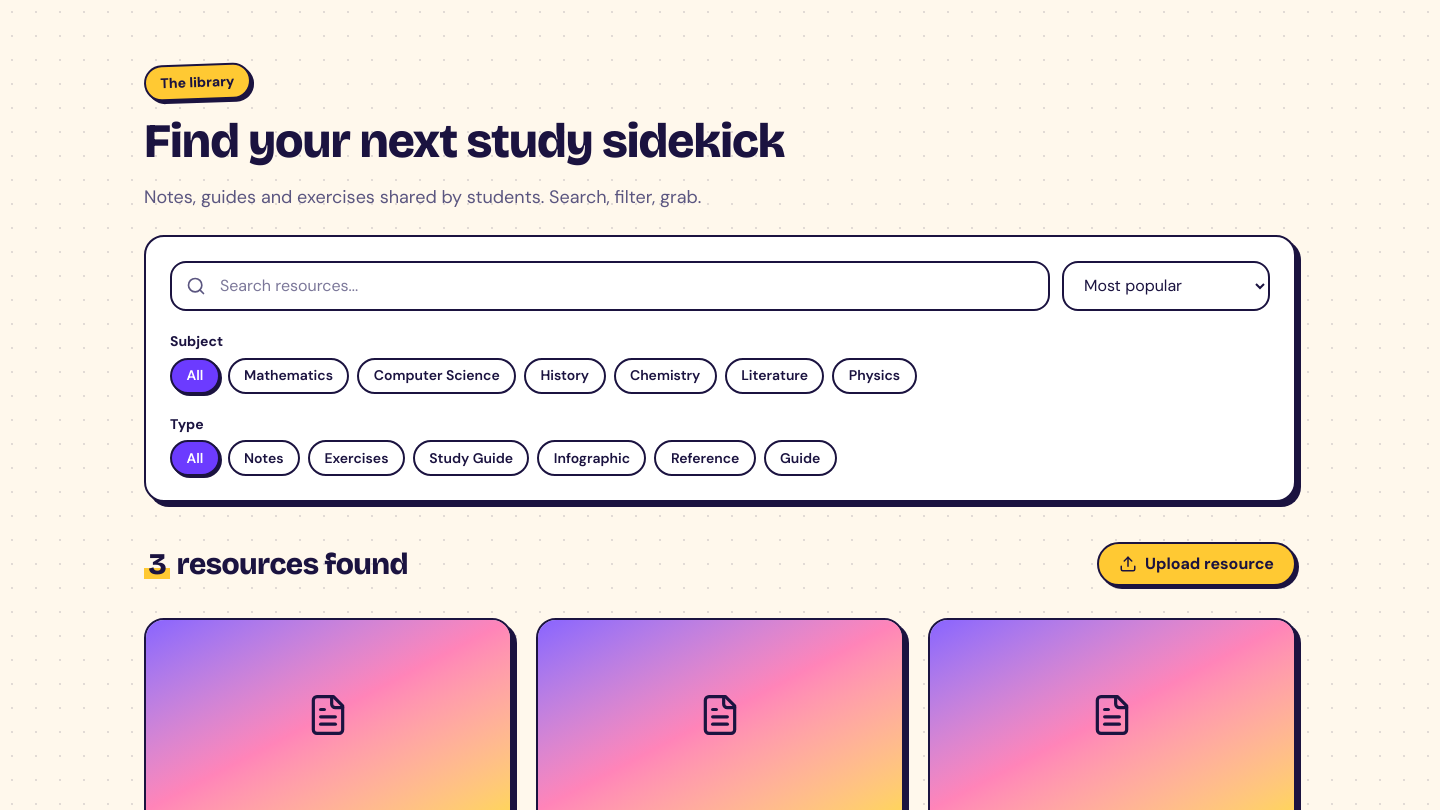
it: Resources page › shows an empty state when nothing matches
The image size is (1440, 810).
Type "zzzzzz" into the search field labelled "Search resources..." at (610, 286), box [170, 261, 1050, 311]
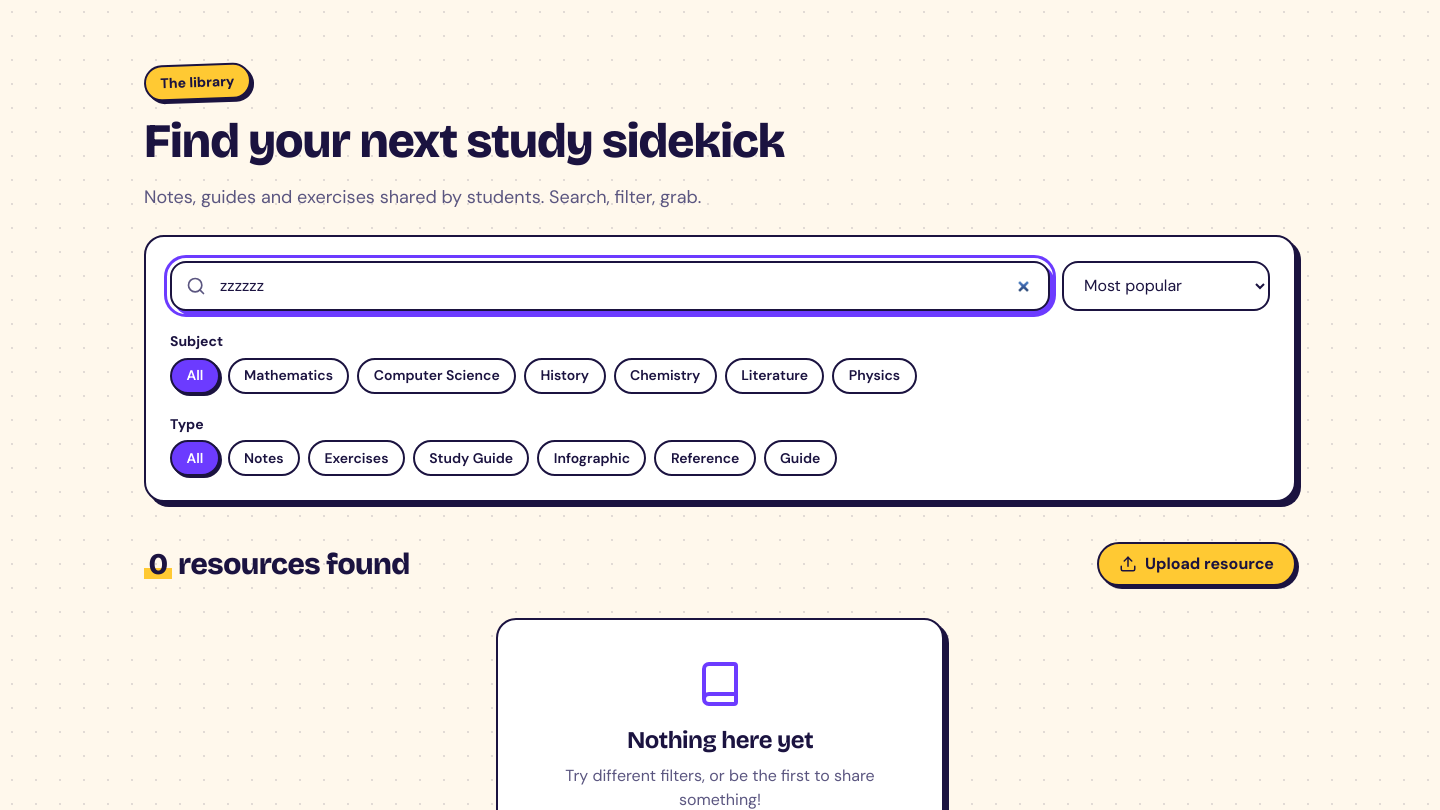
Result: the heading "Nothing here yet" is shown at [627, 726, 813, 754]
